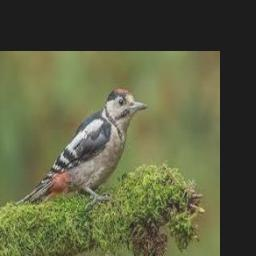Woodpecker: (17, 88, 147, 206)
